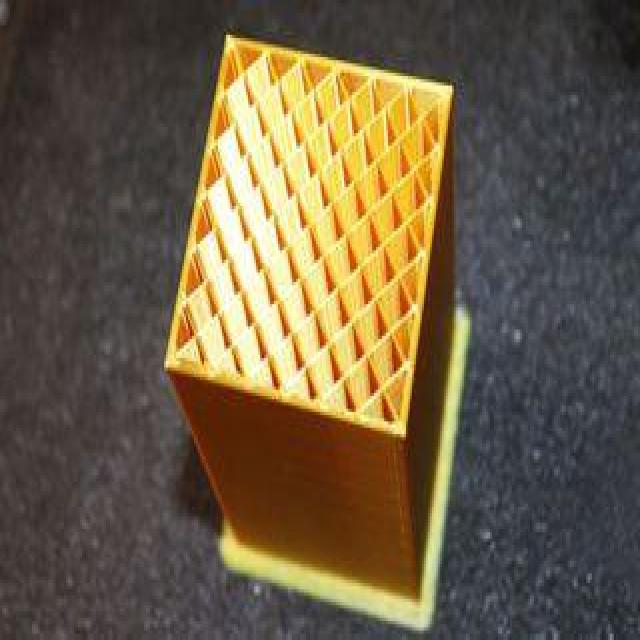Without deffect: (163, 20, 510, 640)
